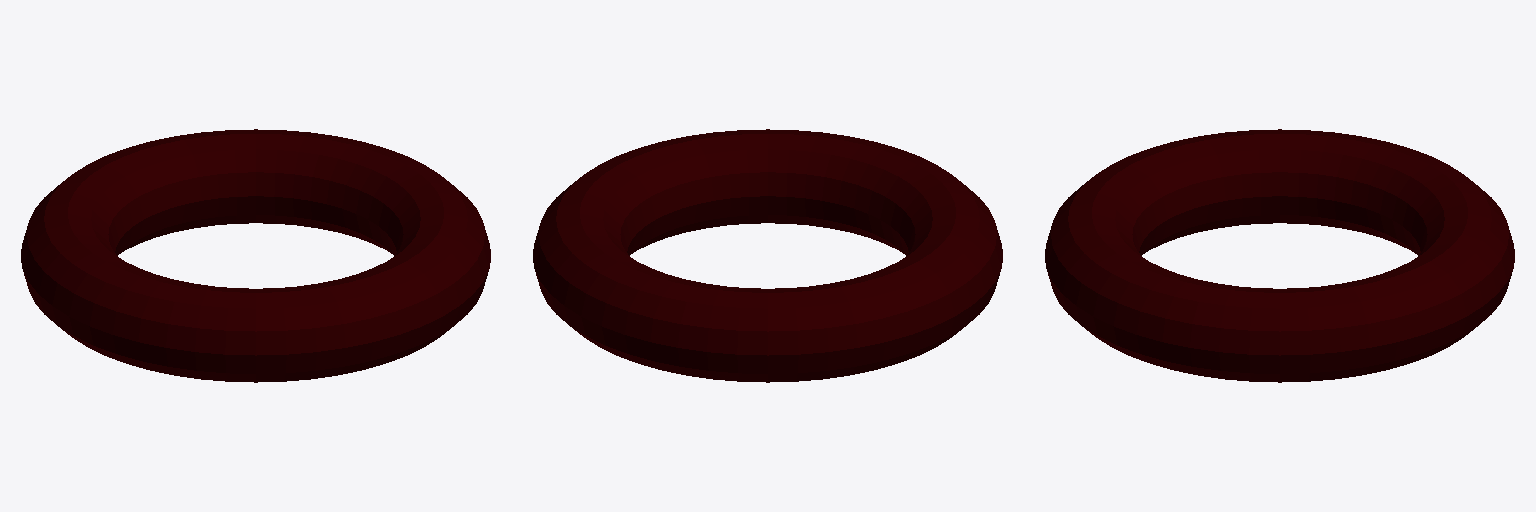
The model's file is Ring.obj.
3 renders of one model, left to right at view 1: azimuth 30°, elevation 25°; view 2: azimuth 150°, elevation 25°; view 3: azimuth 270°, elevation 25°, orthographic.
Parts seen in each view (by area): view 1: Torus.001; view 2: Torus.001; view 3: Torus.001.
Boxes of the visible parts, <box> form: Torus.001: <box>21,129,490,382</box>; Torus.001: <box>533,129,1002,382</box>; Torus.001: <box>1045,129,1514,382</box>.
Size of the model in its own units: 0.2691 by 0.0538 by 0.2691.